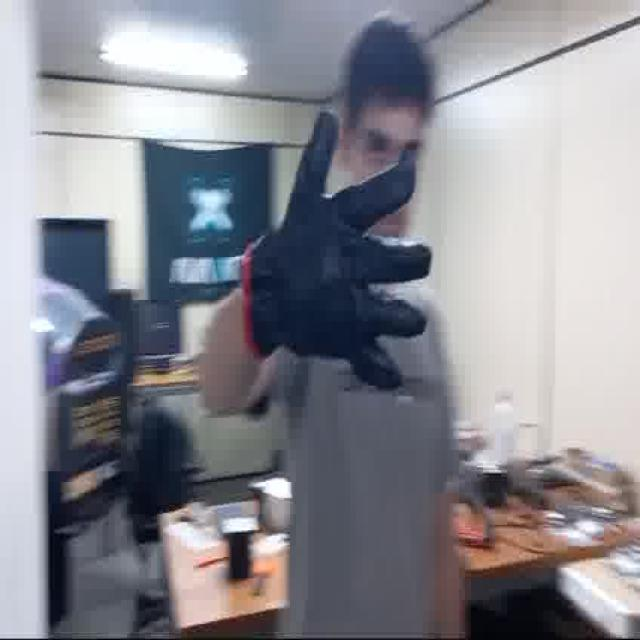Gloves: (247, 107, 423, 400)
